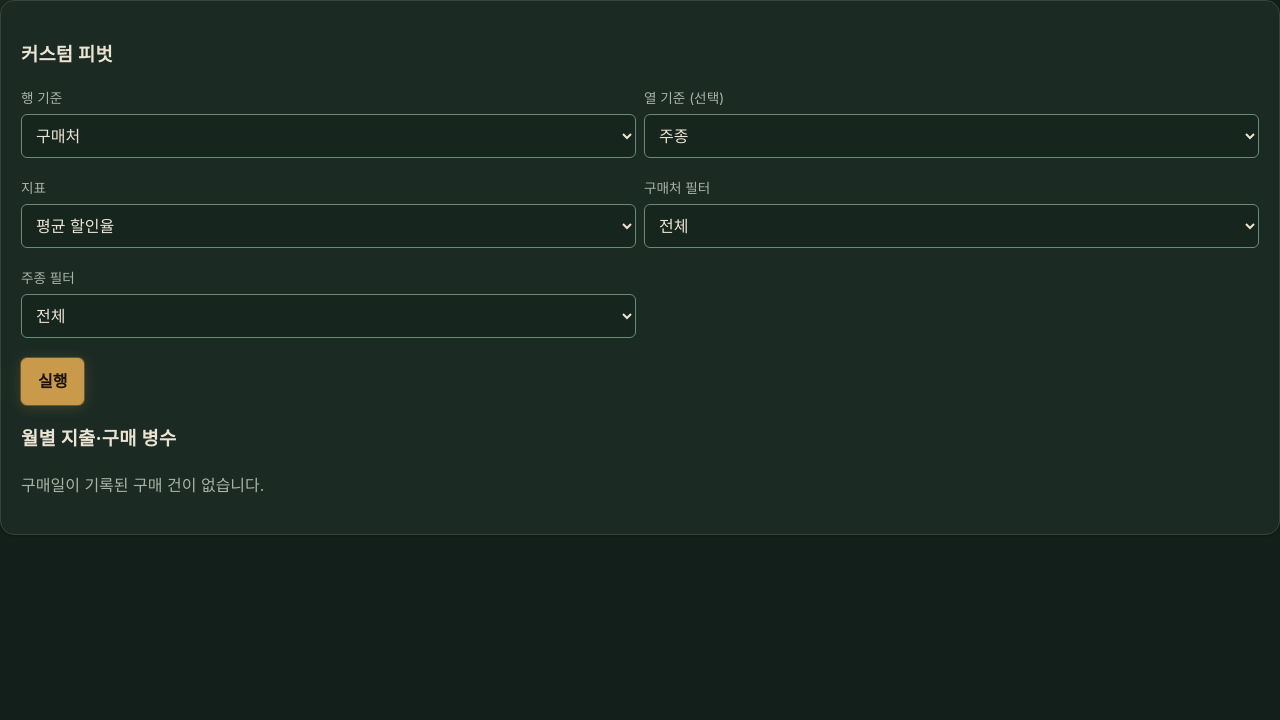
Scenario: PivotExplorer › 결과가 없으면 안내 문구를 보여준다
Click the button "실행".
click(53, 381)  # box [21,358,84,405]
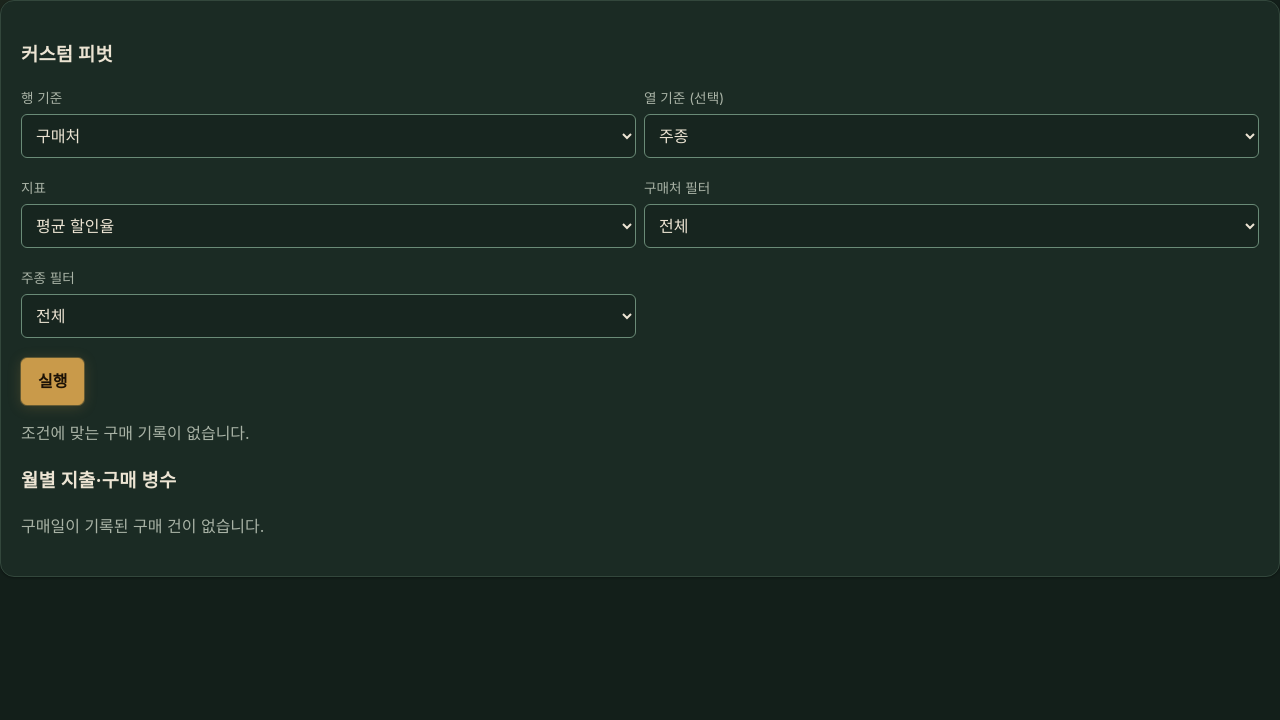
Expected: the text "조건에 맞는 구매 기록이 없습니다." is shown, [21,423,250,443]
